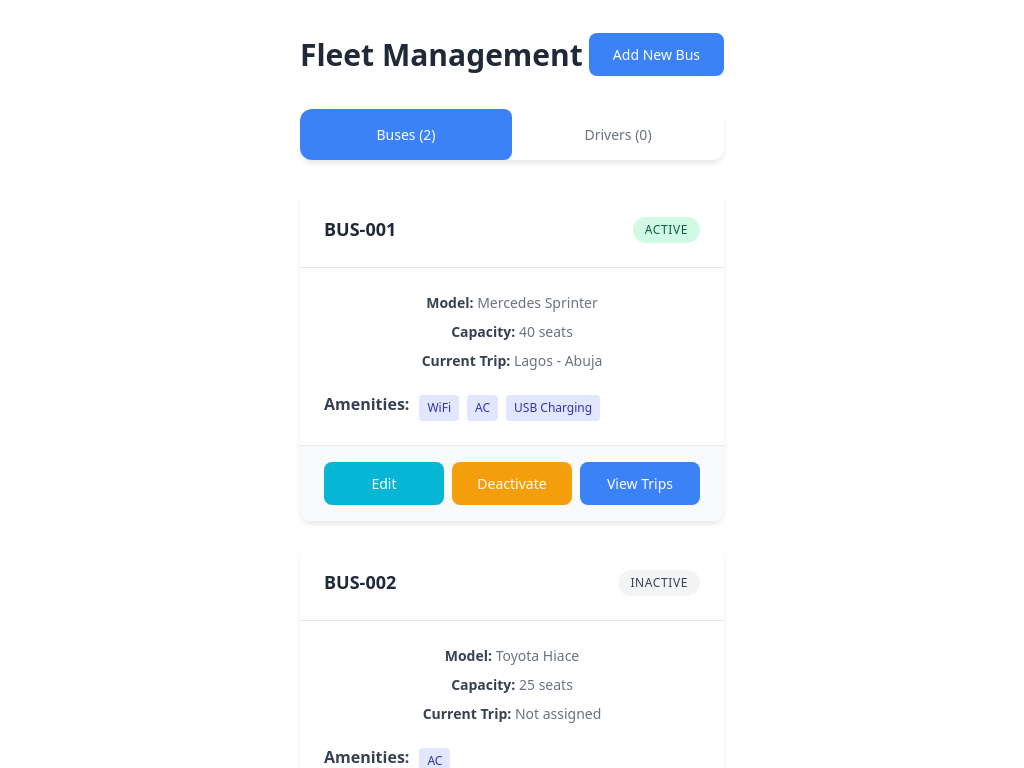
FleetManagement › opens edit bus modal when Edit button is clicked
The width and height of the screenshot is (1024, 768).
Click the button "Edit".
click(384, 484)  # box top-left (324, 462), bottom-right (444, 505)
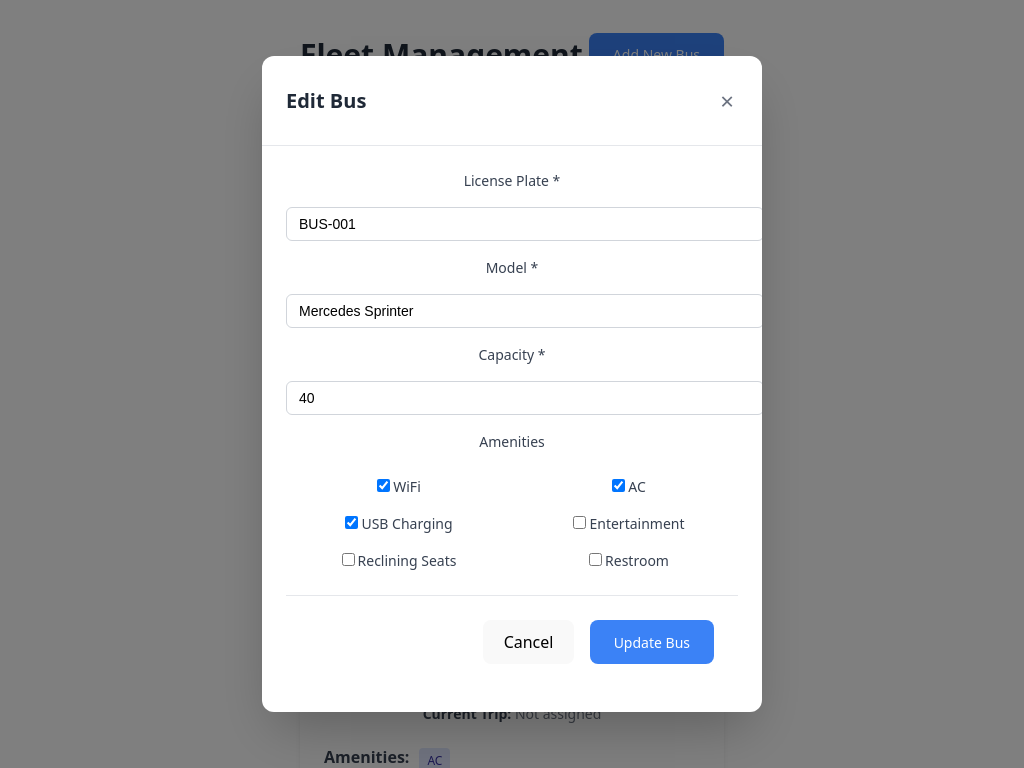
Now the heading "Edit Bus" is shown, box top-left (286, 86), bottom-right (366, 116)
Now the field showing "BUS-001" below "License Plate *" is shown, box top-left (286, 207), bottom-right (762, 241)
Now the field showing "Mercedes Sprinter" below "Model *" is shown, box top-left (286, 294), bottom-right (762, 328)
